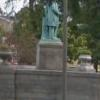Statue: (35, 1, 74, 58)
